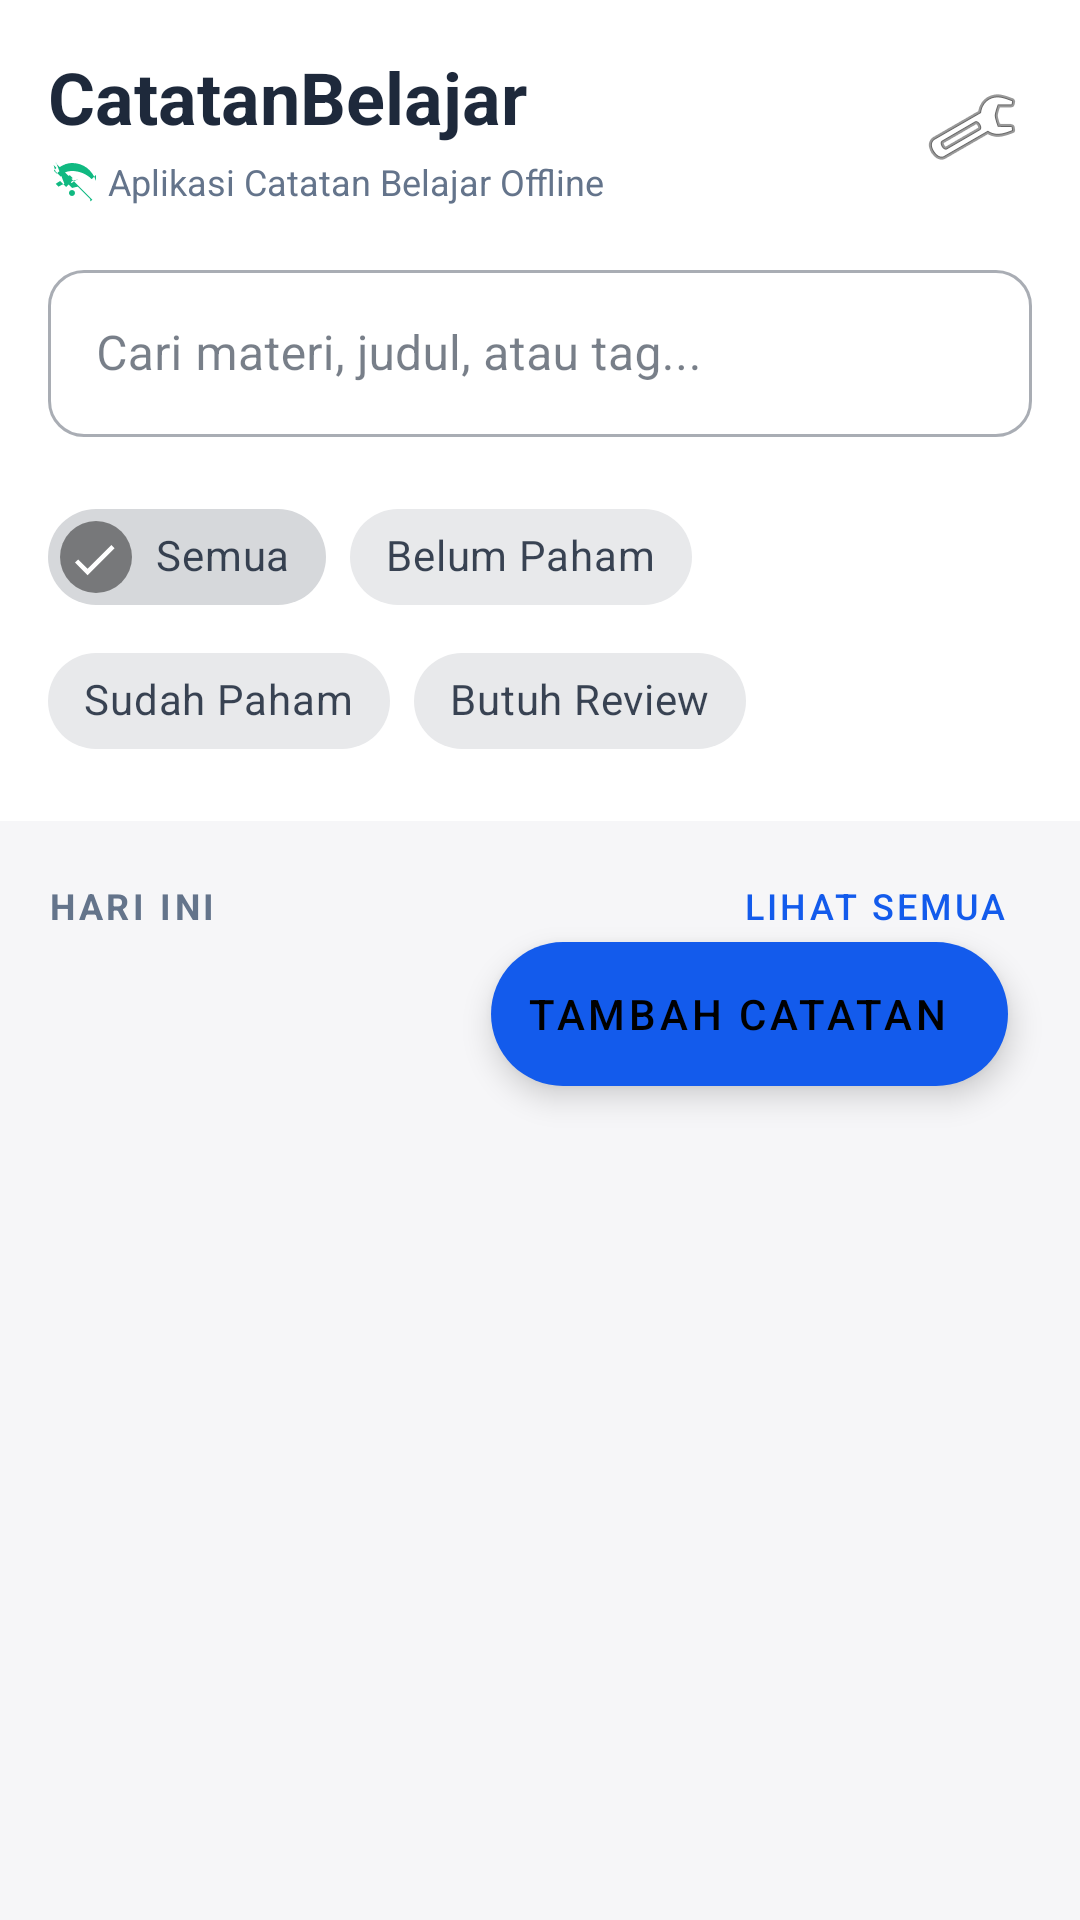

Locate icon controls on the screen. Image size 1080px×1920px, boxes as (x1=x1, y1=y1, x2=x2, y2=y2).
Settings: (x1=929, y1=94, x2=1015, y2=160)
